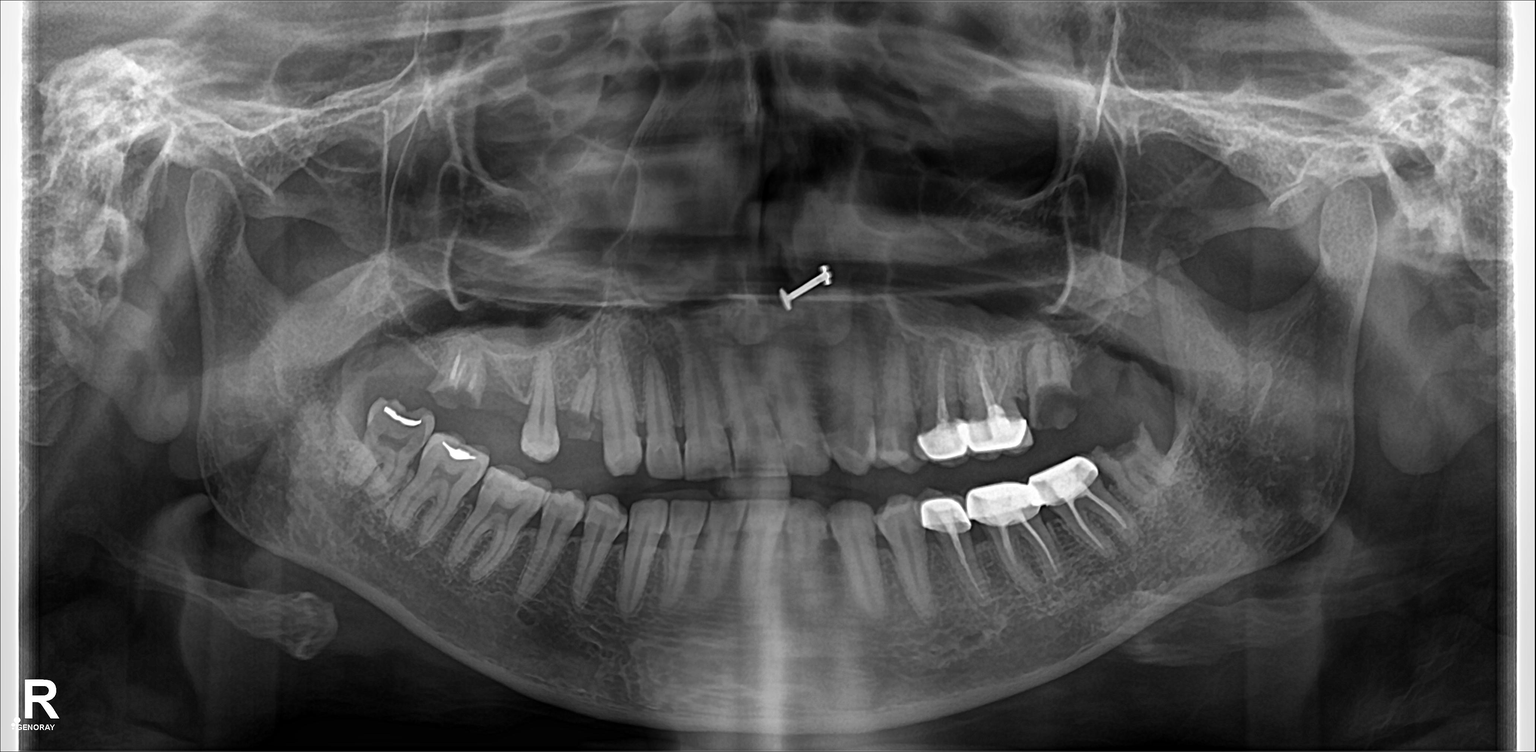Dental Caries: (1097, 441, 1156, 462)
Endodontically Treated Tooth: (1035, 469, 1122, 559), (976, 486, 1041, 597), (965, 348, 1022, 457), (914, 346, 968, 453), (929, 501, 977, 605)
Missing Tooth: (1065, 326, 1123, 429), (385, 324, 435, 404), (1125, 320, 1168, 411), (488, 344, 527, 434)
Retained Root: (436, 328, 483, 422), (559, 352, 600, 445)
Tooth Fracture: (1013, 337, 1076, 425)
